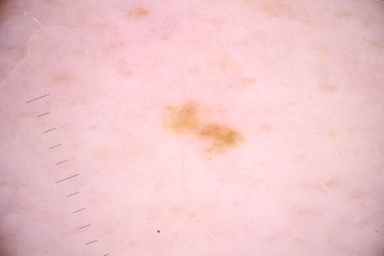melanoma: (166, 104, 243, 152)
